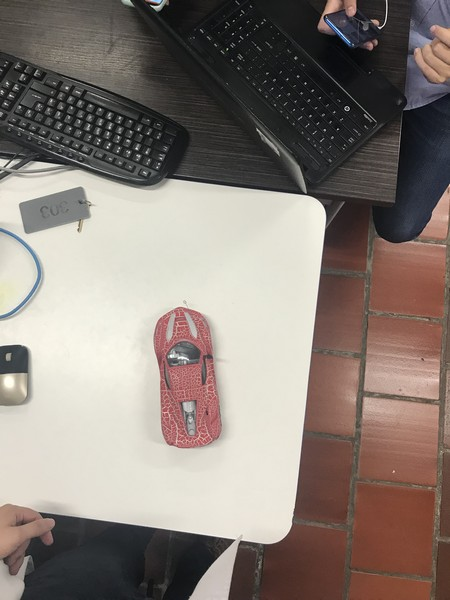RC: (152, 306, 224, 451)
